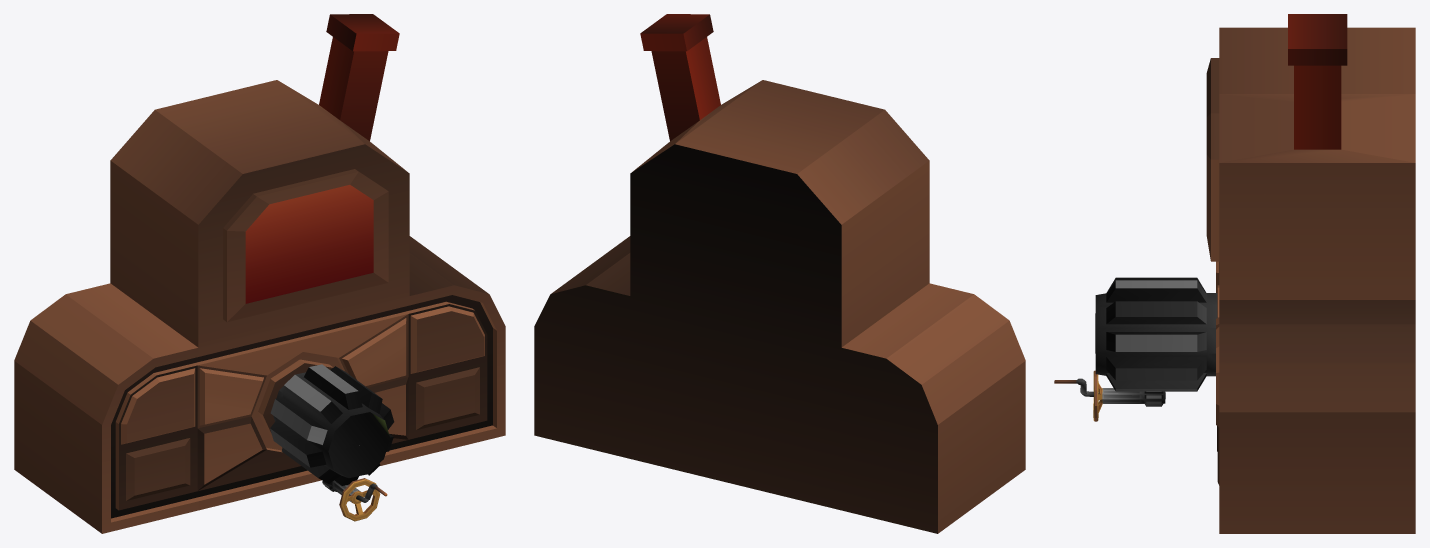
The model's file is crancerminigame.fbx.
3 views of the same model, side by side, from view 1: azimuth 30°, elevation 25°; view 2: azimuth 150°, elevation 25°; view 3: azimuth 270°, elevation 25° (orthographic). The views are drawn at different scales.
Visible parts, largest first — view 1: crancer, crancgear, cranc; view 2: crancer; view 3: crancer, crancgear, cranc.
Boxes of the visible parts, x1,y1,x2,y2 form: crancer: [14, 14, 505, 533]; crancgear: [270, 364, 394, 485]; cranc: [322, 478, 387, 521]; crancer: [534, 14, 1025, 533]; crancer: [1206, 14, 1415, 533]; crancgear: [1095, 277, 1217, 391]; cranc: [1054, 370, 1165, 421].
Size of the model in its own units: 14.5 by 14.01 by 10.08.
